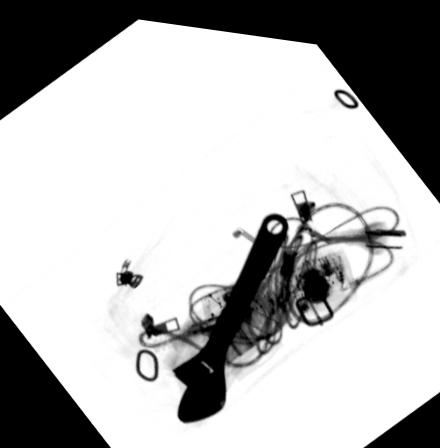Wrench: (169, 203, 289, 419)
